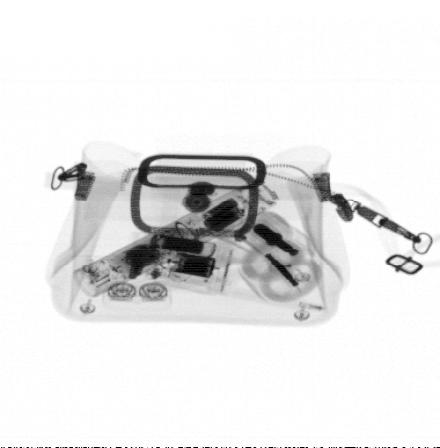Baton: (70, 180, 280, 300)
